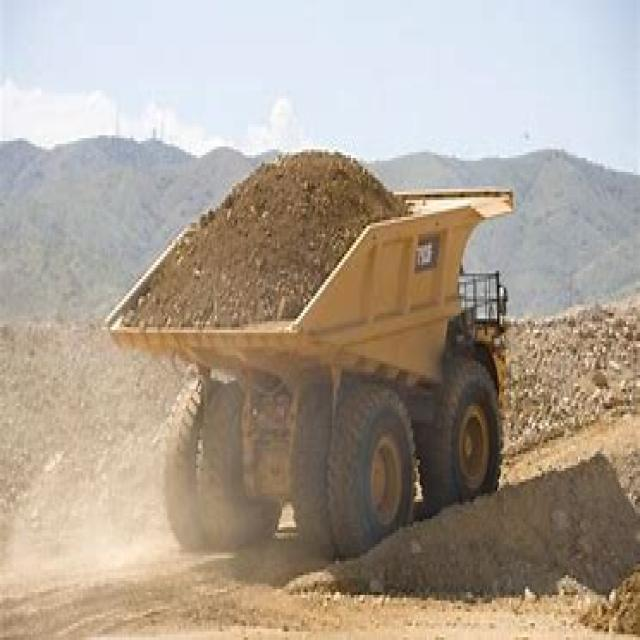dump_truck: (112, 144, 502, 558)
